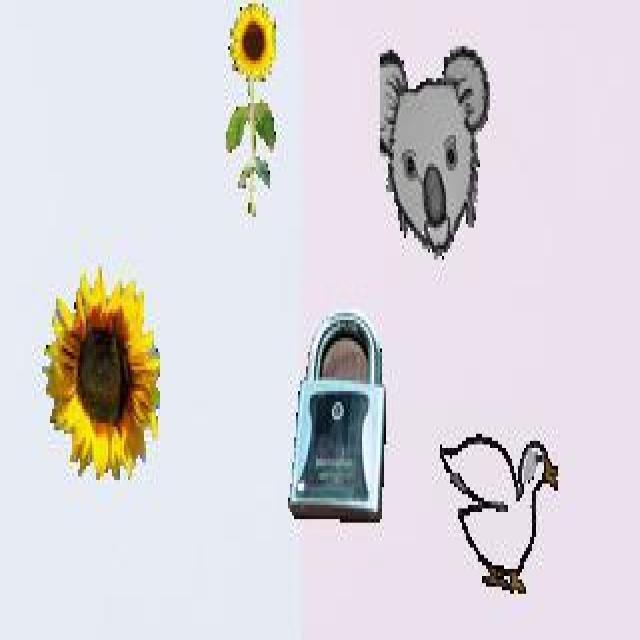Other Objects: (288, 308, 388, 524), (439, 433, 558, 594)
